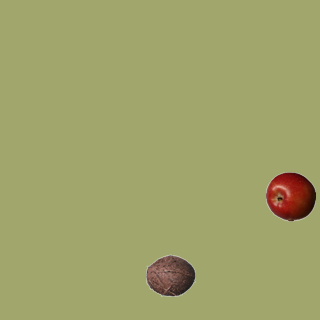Apple Braeburn: (265, 171, 315, 221)
Cocos: (145, 250, 195, 300)
